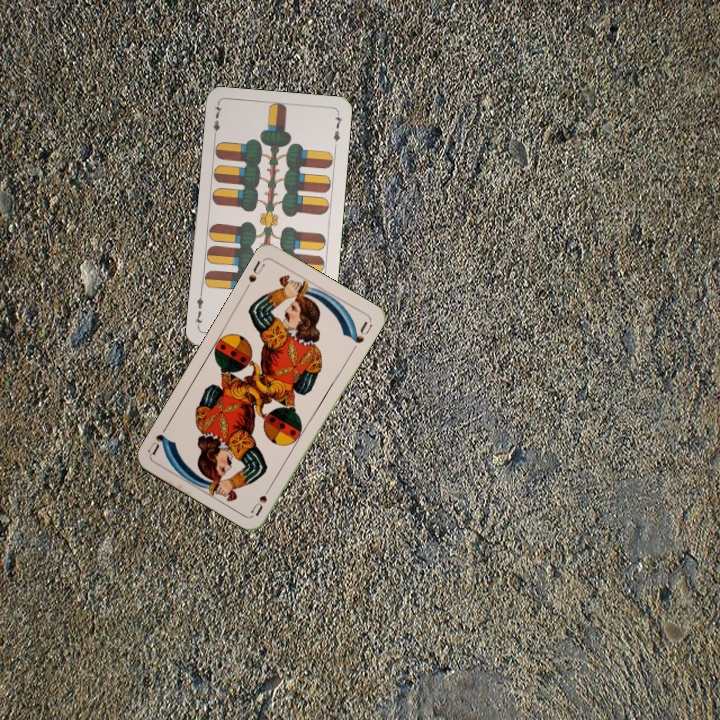E7: (209, 101, 225, 141)
SU: (247, 480, 276, 518), (244, 257, 267, 285)
